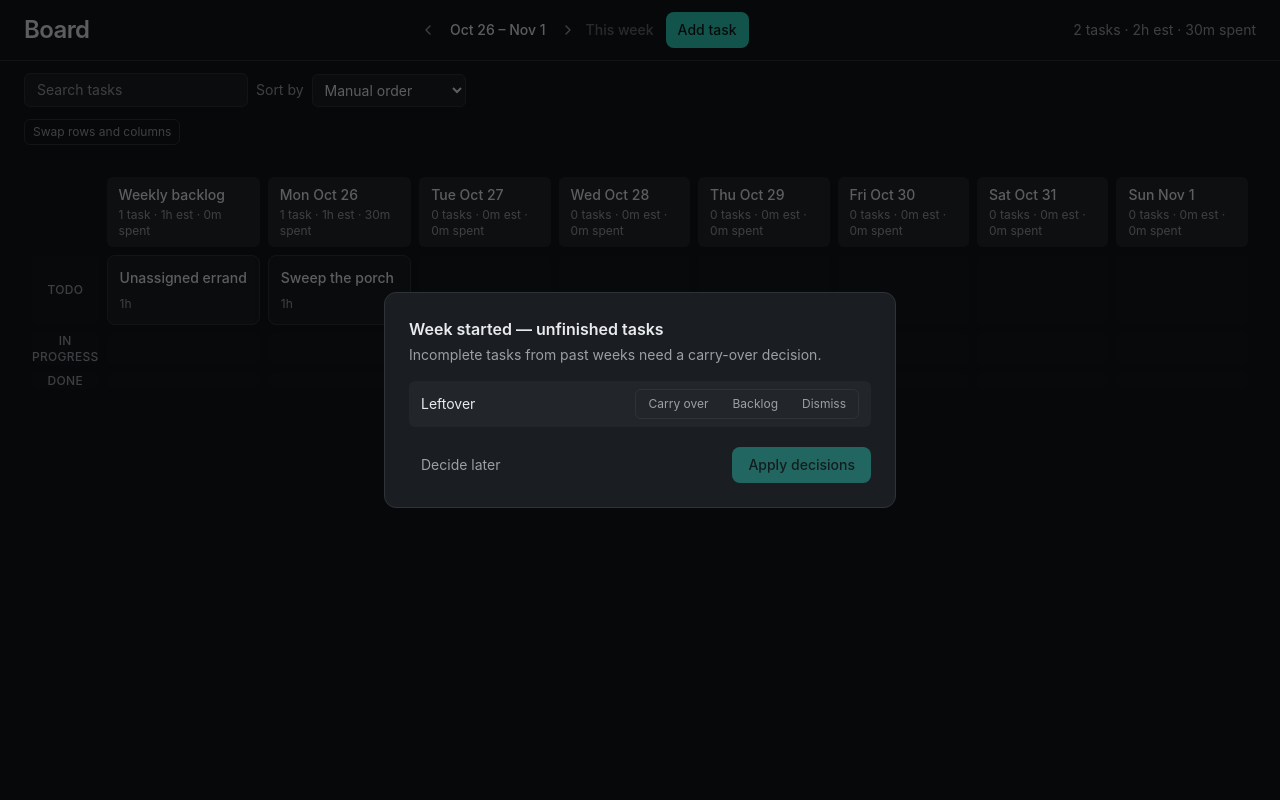
Scenario: BoardPage › prompts for undecided carry-over on the current week only
expect the text "Leftover" is shown: met, box [421,395,475,412]
Step 1. Click the button "Carry over" → (678,404), box [636,390,720,418]
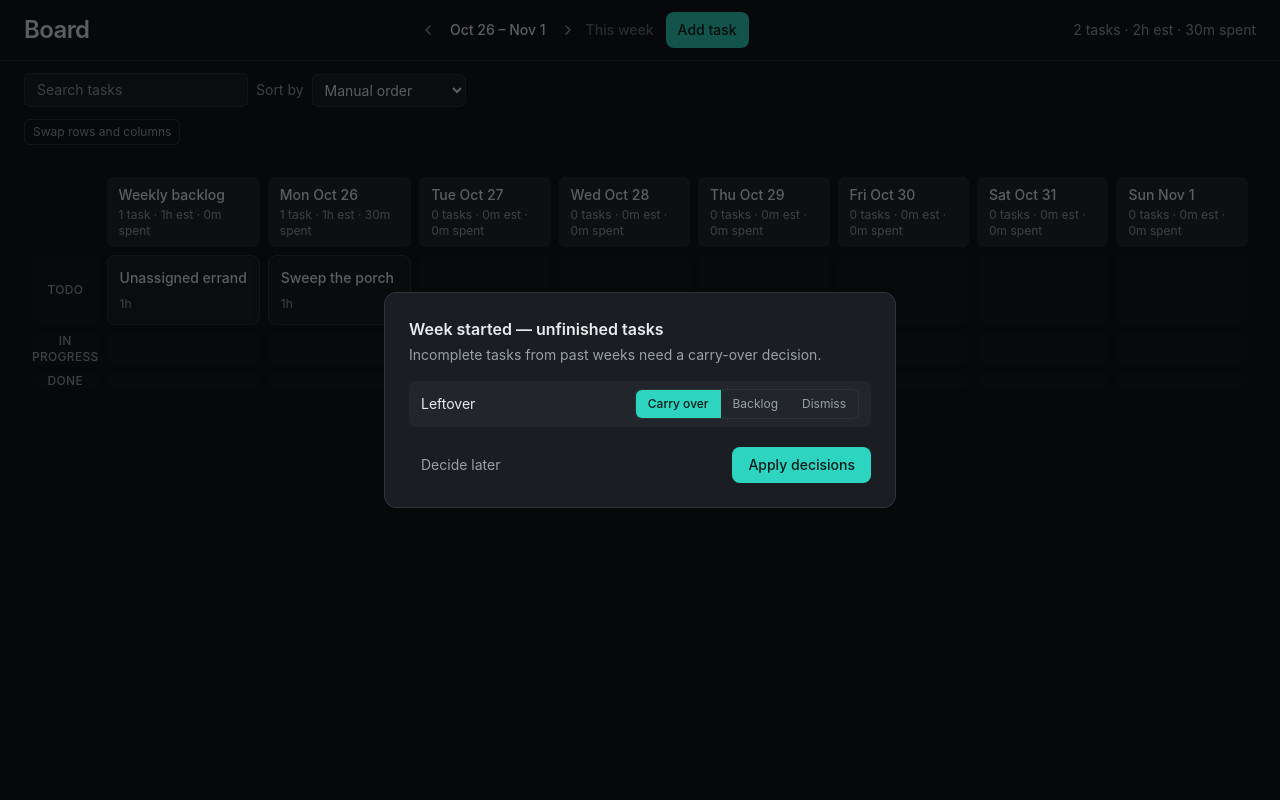
Step 2. Click the button "Apply decisions" → (802,465), box [732,447,871,483]
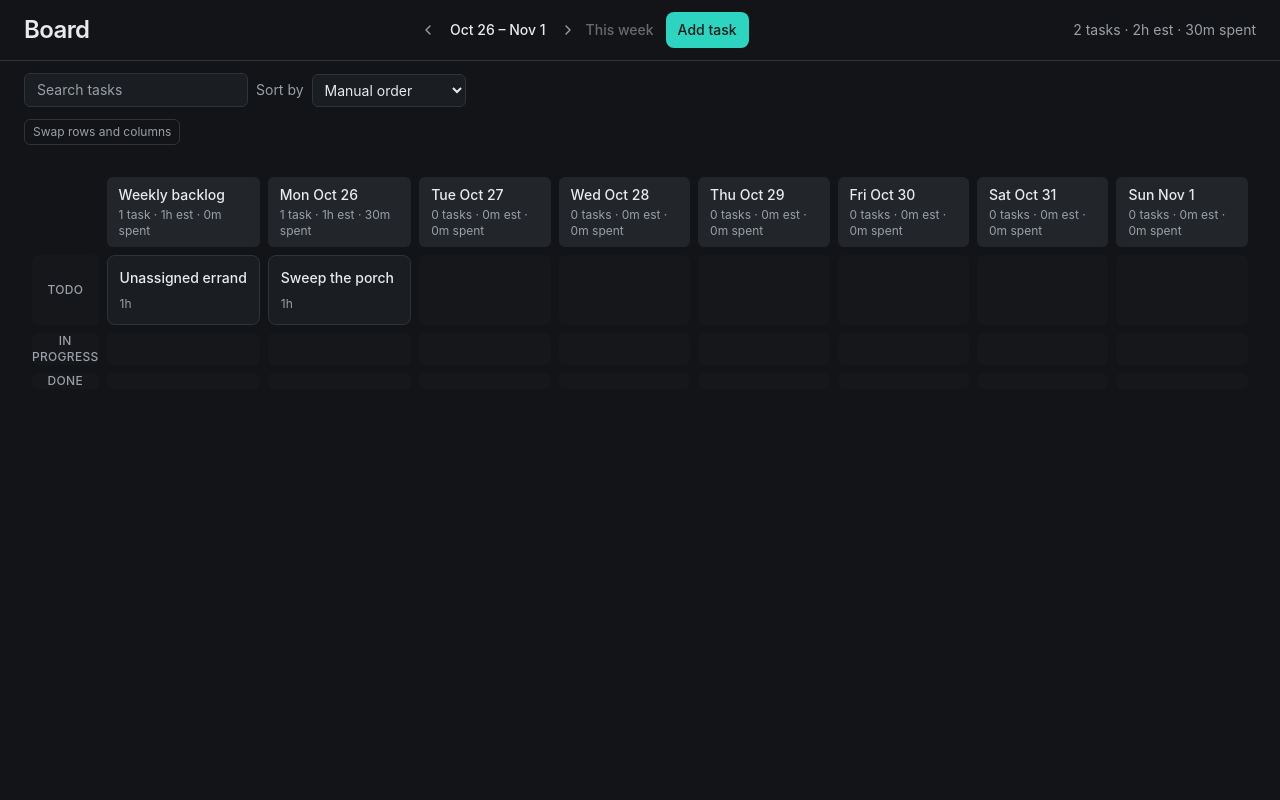
expect the heading "Week started" is gone: met
